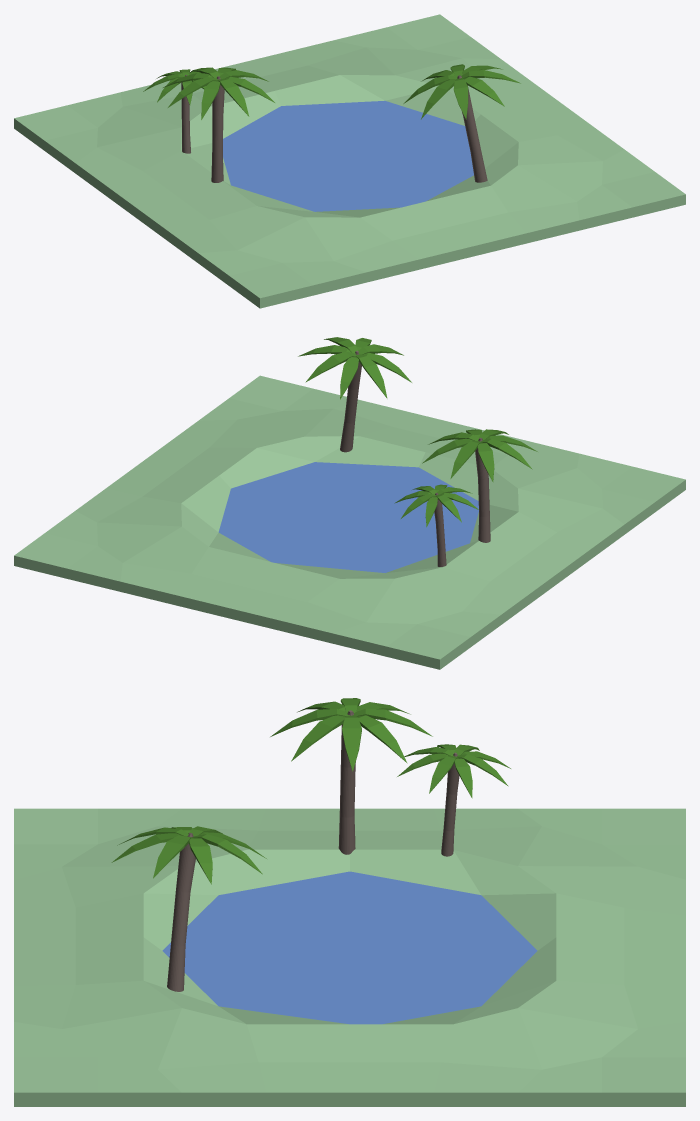
File: Oasis I.fbx
3 renders of one model, top to bottom at view 1: azimuth 30°, elevation 25°; view 2: azimuth 150°, elevation 25°; view 3: azimuth 270°, elevation 25°, orthographic. The views are drawn at different scales.
Visible parts, largest first — view 1: Oasis I; view 2: Oasis I; view 3: Oasis I.
Boxes of the visible parts, bbox=[...] form: Oasis I: bbox=[14, 14, 685, 308]; Oasis I: bbox=[14, 337, 685, 669]; Oasis I: bbox=[14, 698, 685, 1106].
Size of the model in its own units: 1600 by 443 by 1600.
